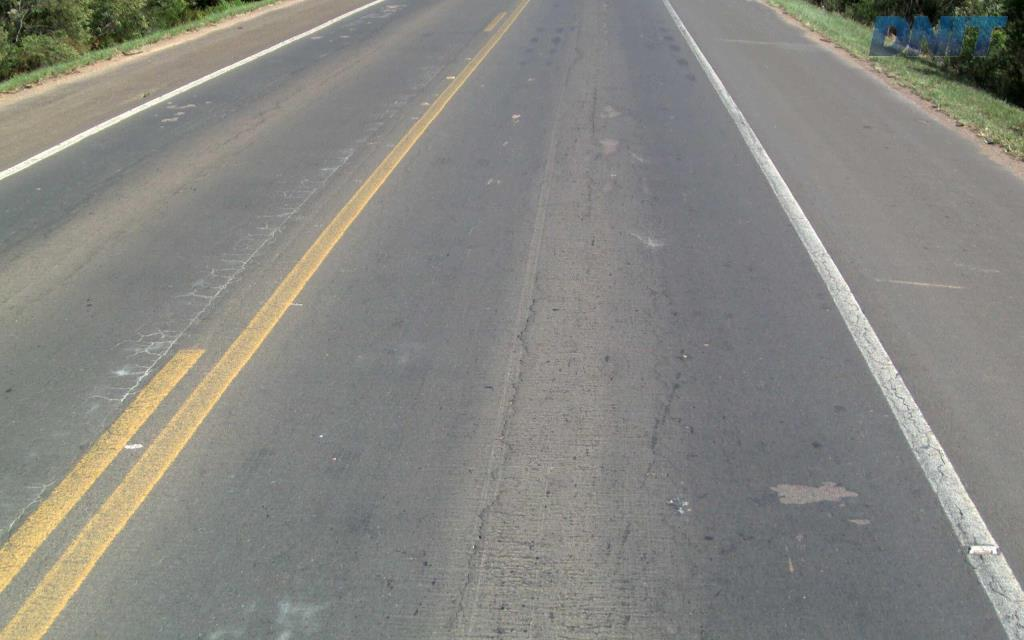pothole: (764, 474, 856, 509), (596, 129, 627, 156), (596, 99, 623, 119)
